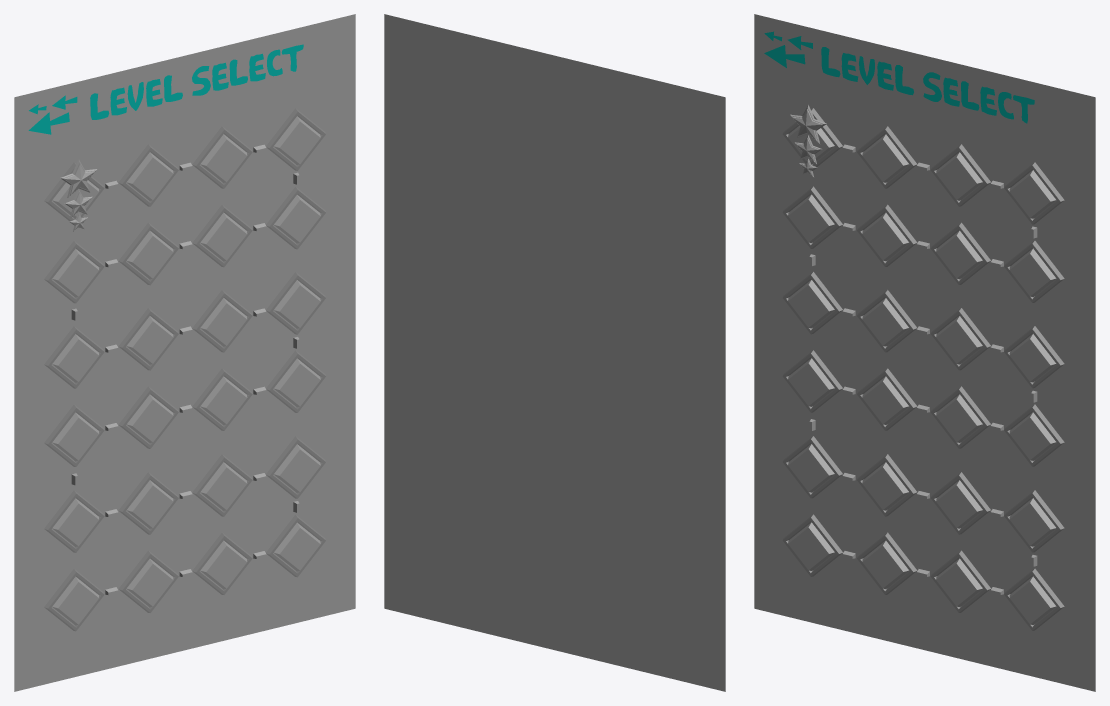
The model's file is mesh_levelselect_old.fbx.
The picture shows the model from 3 angles, left to right: view 1: azimuth 30°, elevation 25°; view 2: azimuth 150°, elevation 25°; view 3: azimuth 330°, elevation 25°; orthographic projection.
Visible parts, largest first — view 1: mesh_levelselect_backround, mesh_levelselect_borders, mesh_levelselect_text, mesh_levelselect_button9, mesh_levelselect_button18, mesh_levelselect_button19, mesh_levelselect_button21, mesh_levelselect_button23, mesh_levelselect_button10, mesh_levelselect_button5, mesh_levelselect_button7, mesh_levelselect_button11 (+16 smaller); view 2: mesh_levelselect_backround; view 3: mesh_levelselect_backround, mesh_levelselect_borders, mesh_levelselect_text, mesh_levelselect_button5, mesh_levelselect_button18, mesh_levelselect_button19, mesh_levelselect_button23, mesh_levelselect_button10, mesh_levelselect_button11, mesh_levelselect_button4, mesh_levelselect_button13, mesh_levelselect_button15 (+16 smaller).
Part boxes in pixels (x1,y1,x2,y2): mesh_levelselect_backround: (14, 14, 355, 691); mesh_levelselect_borders: (44, 108, 325, 631); mesh_levelselect_text: (90, 44, 303, 119); mesh_levelselect_button9: (52, 334, 98, 382); mesh_levelselect_button18: (126, 480, 173, 528); mesh_levelselect_button19: (200, 462, 247, 510); mesh_levelselect_button21: (274, 522, 320, 571); mesh_levelselect_button23: (126, 558, 173, 607); mesh_levelselect_button10: (126, 316, 173, 364); mesh_levelselect_button5: (274, 195, 320, 243); mesh_levelselect_button7: (126, 231, 173, 279); mesh_levelselect_button11: (200, 298, 247, 346); mesh_levelselect_backround: (384, 14, 725, 691); mesh_levelselect_backround: (754, 14, 1095, 691); mesh_levelselect_borders: (782, 108, 1064, 630); mesh_levelselect_text: (821, 47, 1034, 123); mesh_levelselect_button5: (1009, 248, 1056, 297); mesh_levelselect_button18: (862, 462, 908, 510); mesh_levelselect_button19: (936, 480, 982, 528); mesh_levelselect_button23: (862, 540, 909, 588); mesh_levelselect_button10: (862, 298, 908, 346); mesh_levelselect_button11: (936, 316, 982, 364); mesh_levelselect_button4: (1009, 170, 1056, 218); mesh_levelselect_button13: (1009, 412, 1056, 460); mesh_levelselect_button15: (862, 376, 909, 424).
Size of the model in its own units: 0.2786 by 0.4634 by 0.011.
